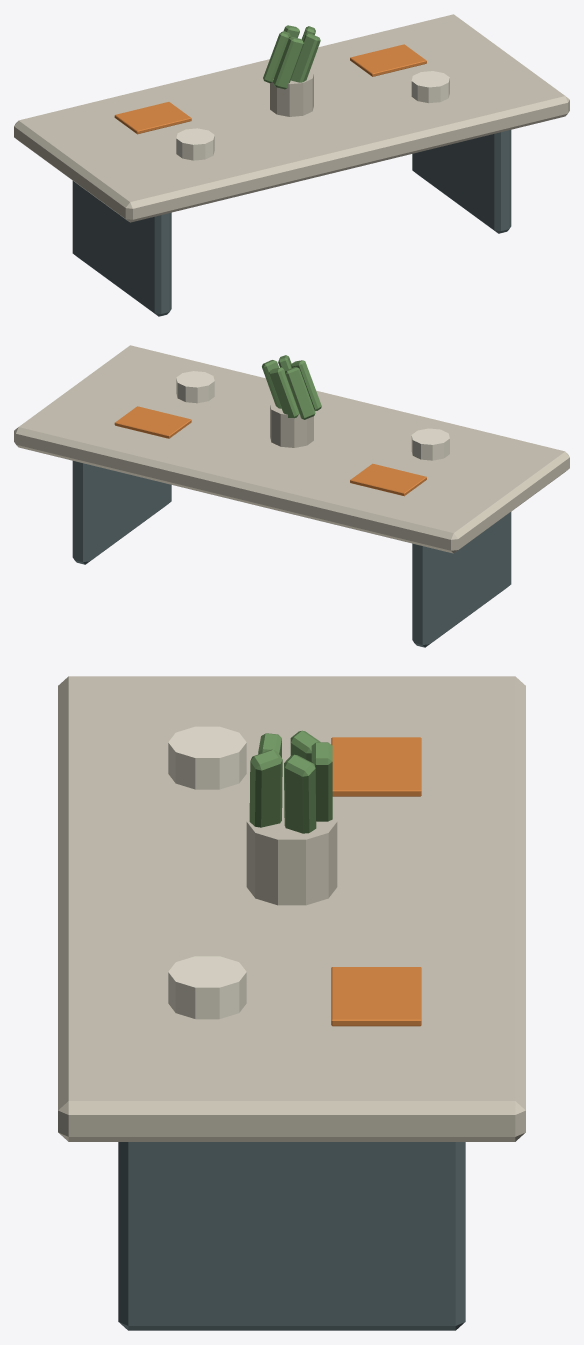
Rendered from table.glb.
3 renders of one model, top to bottom at view 1: azimuth 30°, elevation 25°; view 2: azimuth 150°, elevation 25°; view 3: azimuth 270°, elevation 25°, orthographic. The views are drawn at different scales.
Parts seen in each view (by area): view 1: table; view 2: table; view 3: table.
Part boxes in pixels (box(x1,y1,x2,y2)): table: box(14, 14, 569, 316); table: box(14, 345, 569, 647); table: box(58, 676, 525, 1330).
Bounding box in the file's own units: 3.4 × 1.55 × 1.55.
